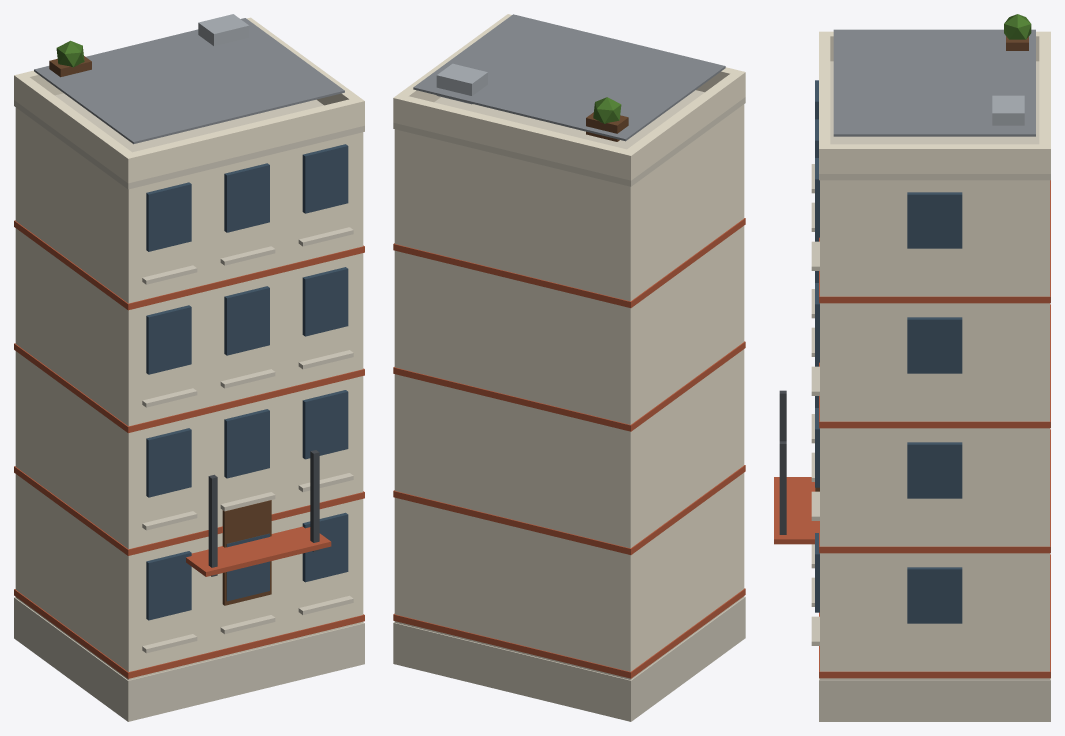
Rendered from building.hotel.glb.
3 views of the same model, side by side, from view 1: azimuth 30°, elevation 25°; view 2: azimuth 150°, elevation 25°; view 3: azimuth 270°, elevation 25° (orthographic).
Parts seen in each view (by area): view 1: building.hotel; view 2: building.hotel; view 3: building.hotel.
Boxes of the visible parts, x1,y1,x2,y2 form: building.hotel: (14,14,364,721); building.hotel: (393,14,745,721); building.hotel: (774,14,1050,721).
Size of the model in its own units: 6.14 by 14.65 by 6.03.
